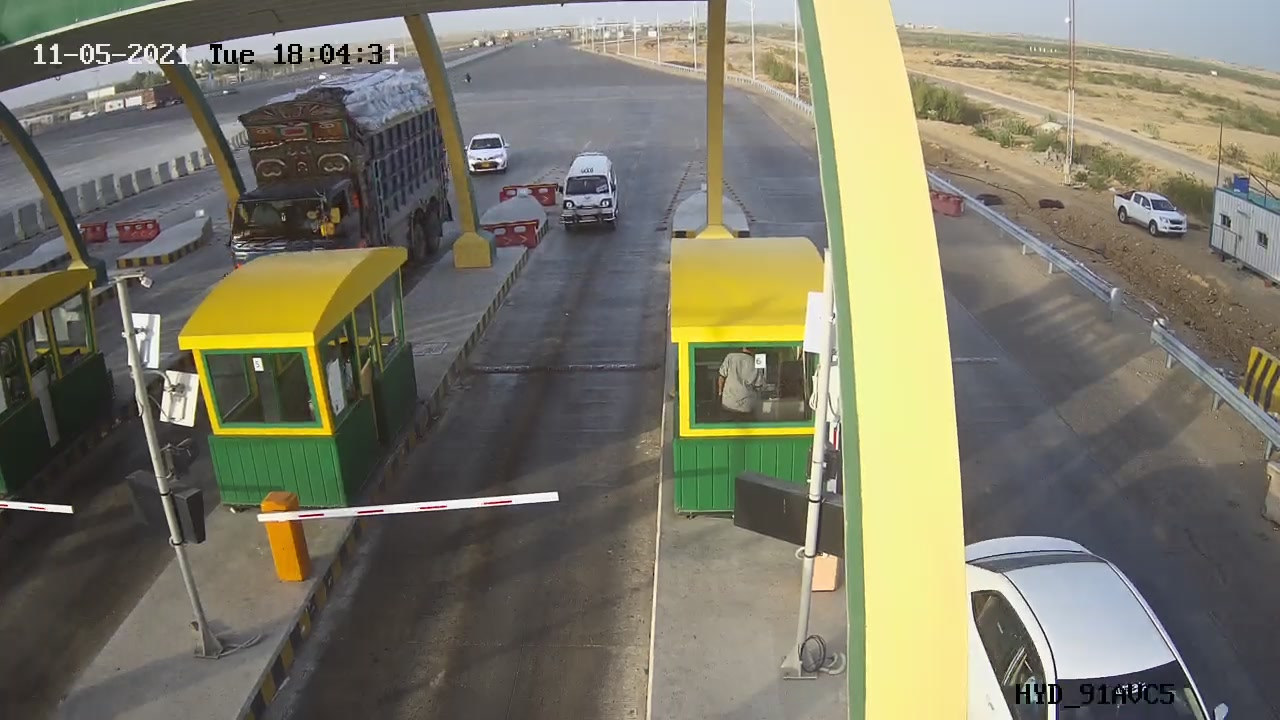F1: (543, 146, 639, 242)
